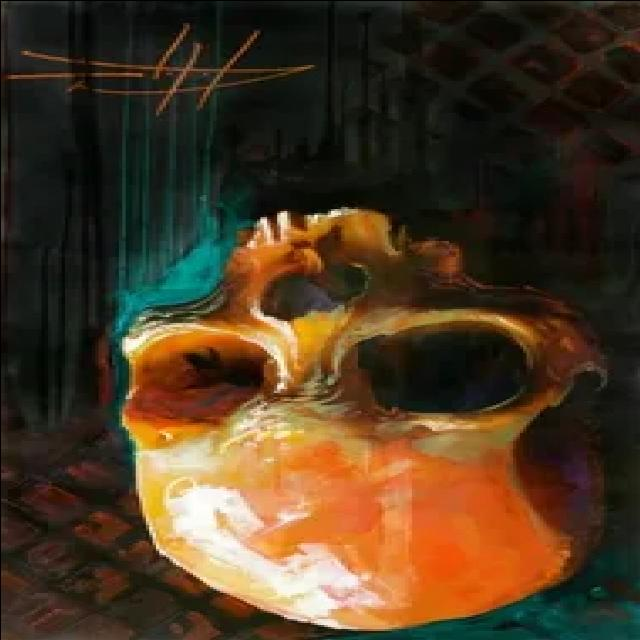skull: (107, 203, 616, 636)
